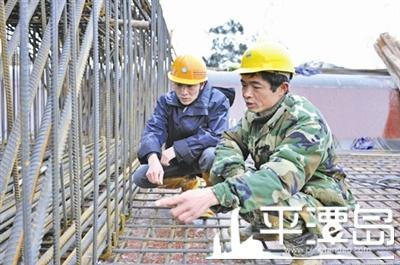helmet: (230, 32, 302, 113), (165, 48, 212, 104)
